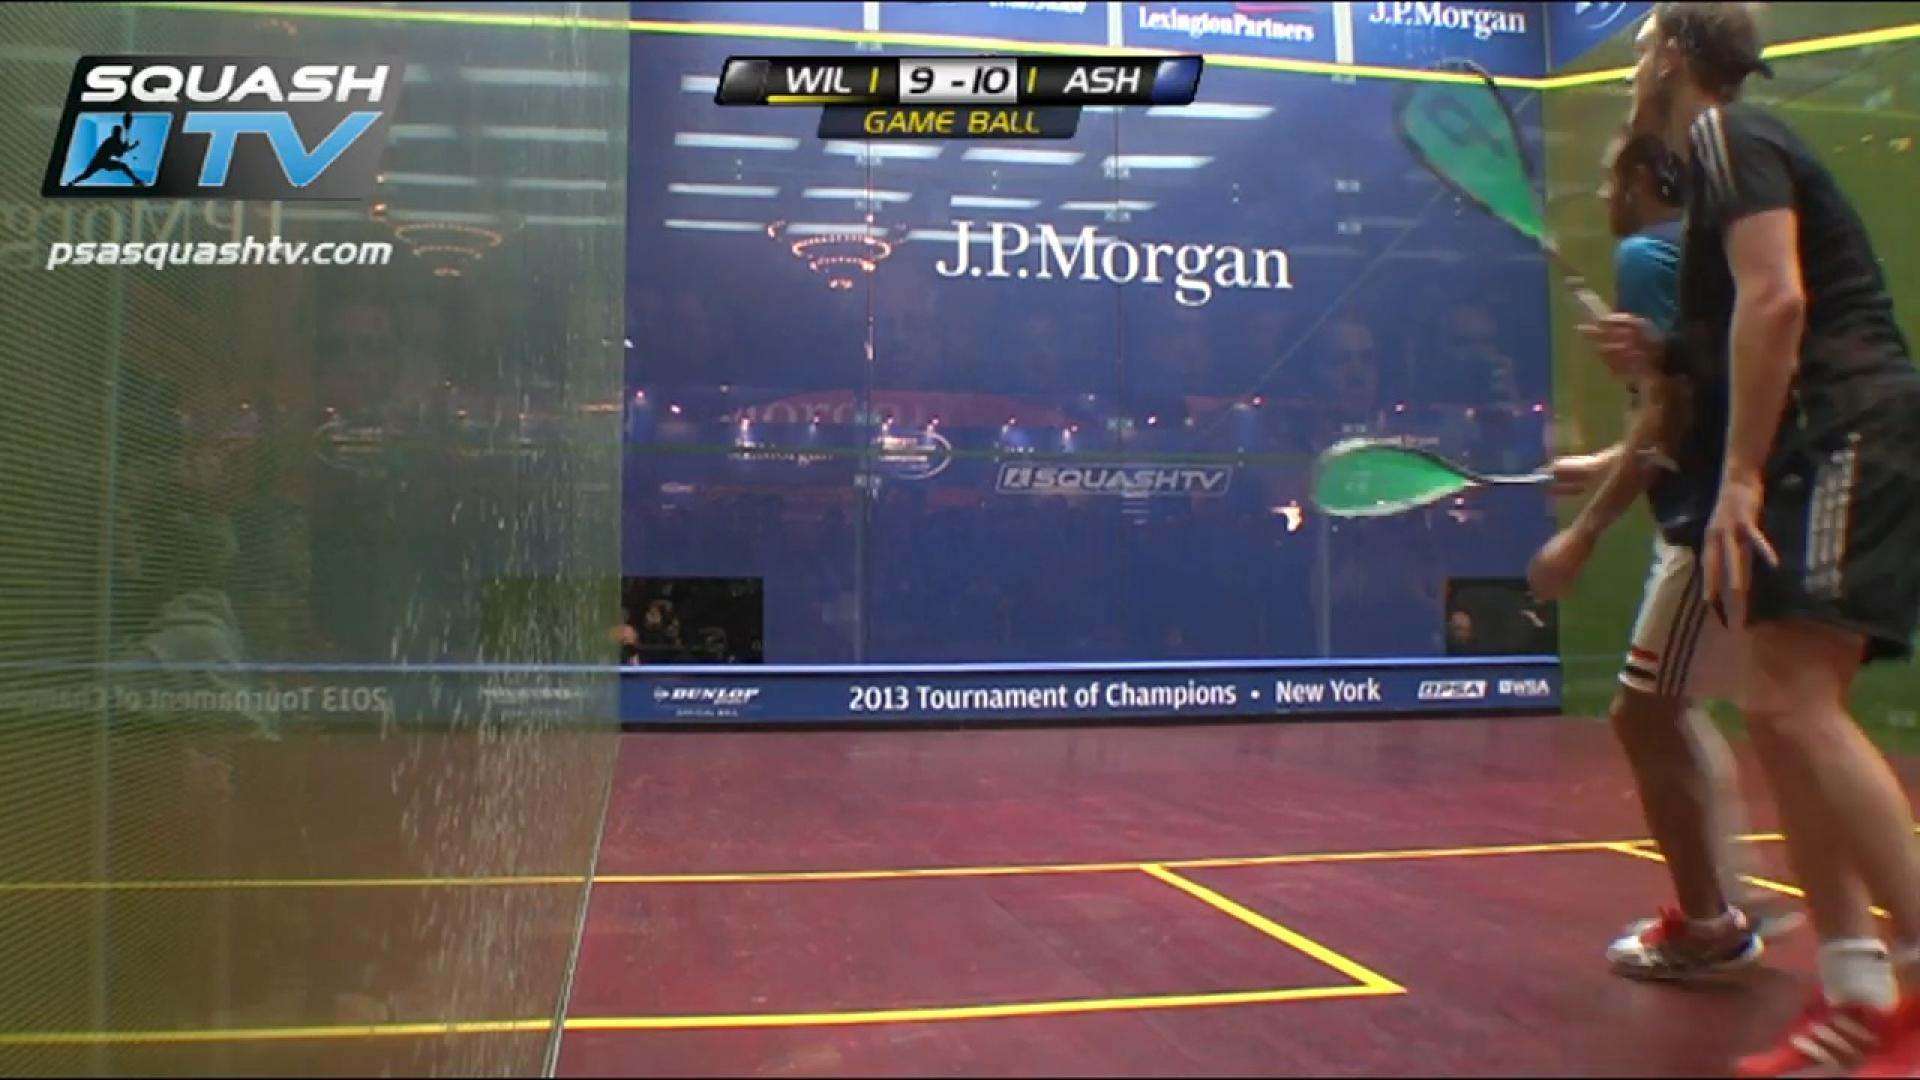Squash-Ball: (621, 326, 647, 359)
